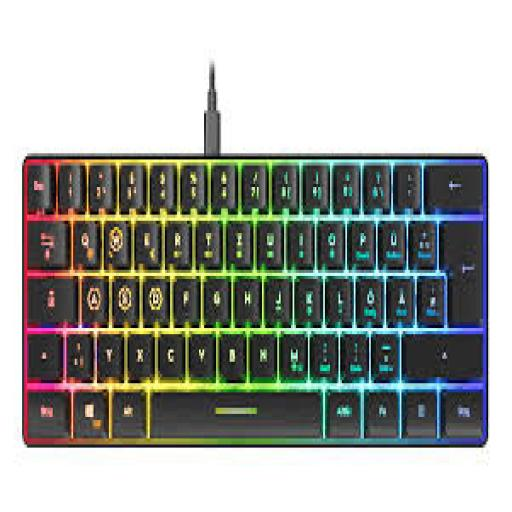KEYBOARD-2: (22, 153, 486, 445)
